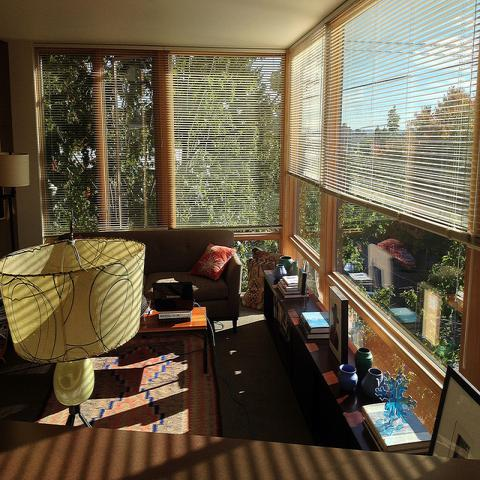car: (377, 238, 418, 270)
